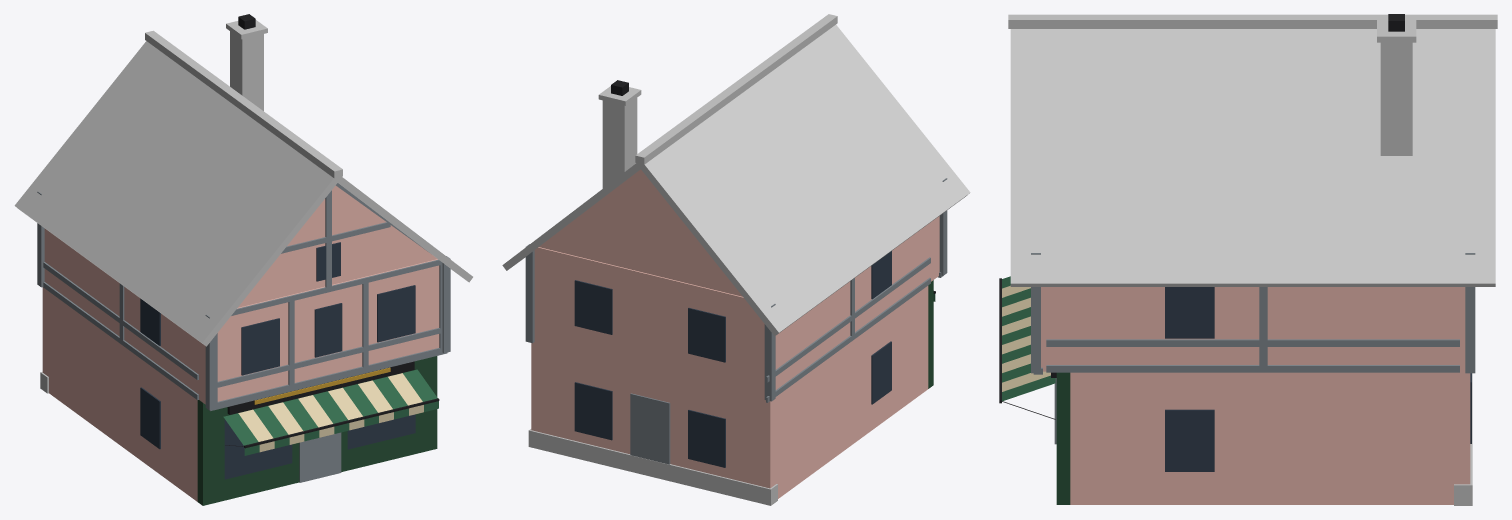
The model's file is generated.shop_house.gltf.
3 renders of one model, left to right at view 1: azimuth 30°, elevation 25°; view 2: azimuth 150°, elevation 25°; view 3: azimuth 270°, elevation 25°, orthographic. The views are drawn at different scales.
Parts seen in each view (by area): view 1: shop_house; view 2: shop_house; view 3: shop_house.
Boxes of the visible parts, <box> form: shop_house: <box>14,14,472,505</box>; shop_house: <box>502,14,970,505</box>; shop_house: <box>999,14,1497,505</box>.
Size of the model in its own units: 8.8 by 10.82 by 10.85.
